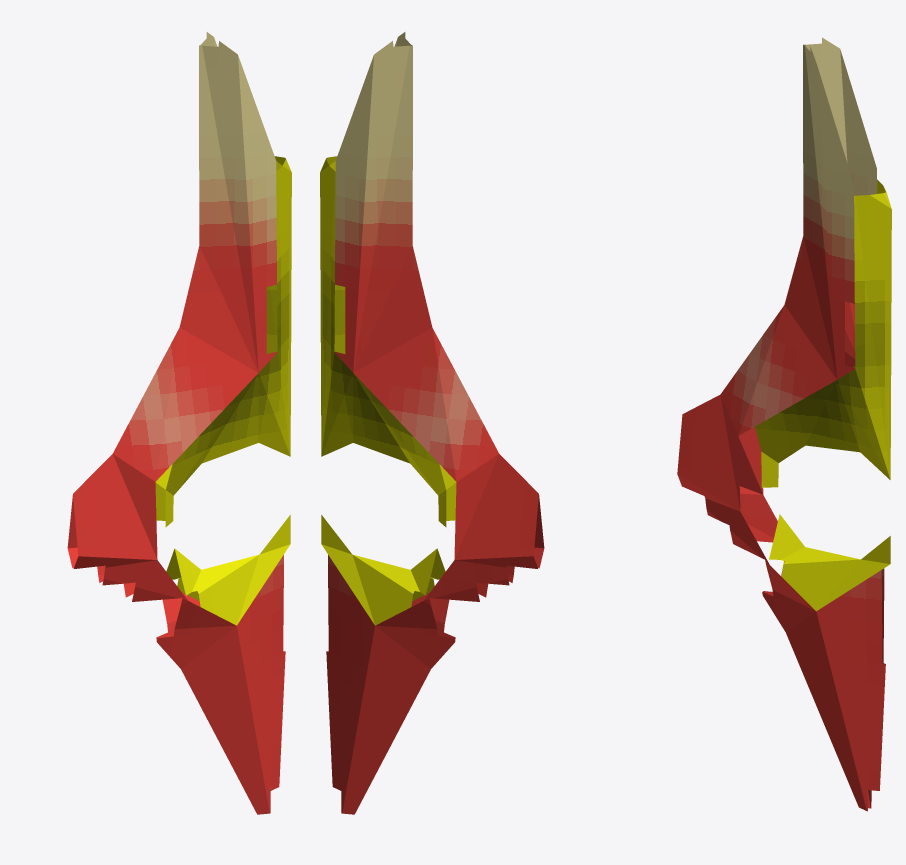
The model's file is calmant.obj.
3 views of the same model, side by side, from view 1: azimuth 30°, elevation 25°; view 2: azimuth 150°, elevation 25°; view 3: azimuth 330°, elevation 25° (orthographic). The views are drawn at different scales.
Size of the model in its own units: 20.95 by 61.67 by 3.12.
